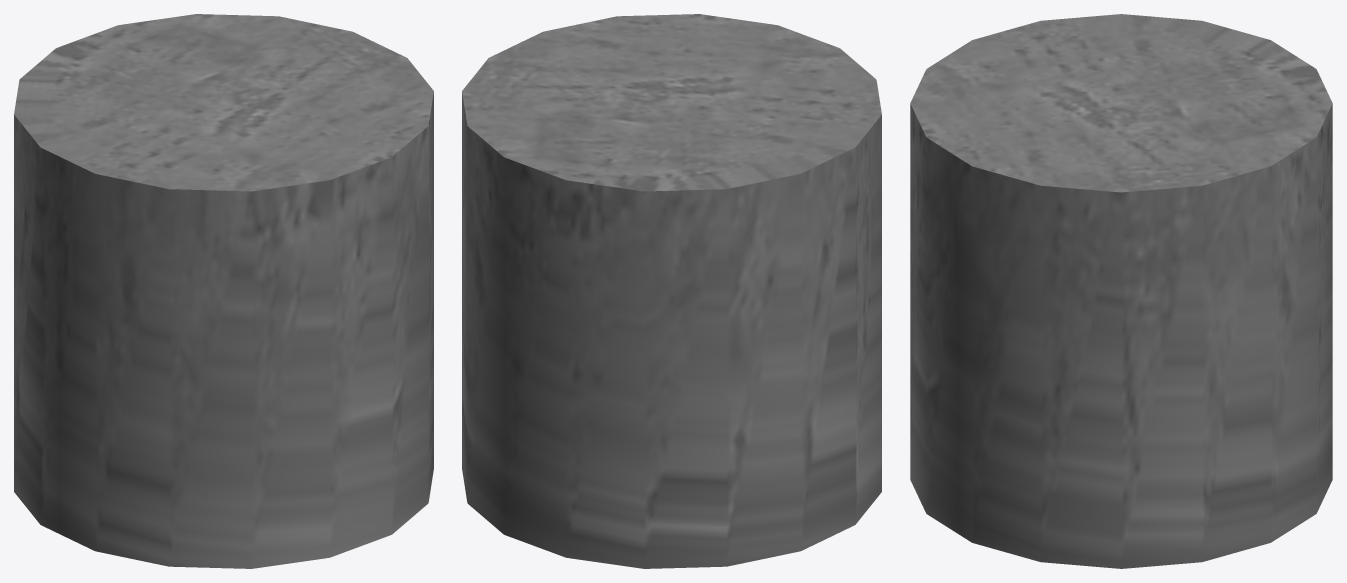
The model's file is icub_r_shoulder_2.dae.
3 renders of one model, left to right at view 1: azimuth 30°, elevation 25°; view 2: azimuth 150°, elevation 25°; view 3: azimuth 270°, elevation 25°, orthographic.
Visible parts, largest first — view 1: r_shoulder_2_mesh; view 2: r_shoulder_2_mesh; view 3: r_shoulder_2_mesh.
Boxes of the visible parts, x1,y1,x2,y2 form: r_shoulder_2_mesh: [14, 14, 433, 568]; r_shoulder_2_mesh: [462, 14, 881, 568]; r_shoulder_2_mesh: [910, 14, 1332, 568].
Bounding box in the file's own units: 0.06 × 0.06 × 0.059.
Materials: 1 (1 with a texture image).
